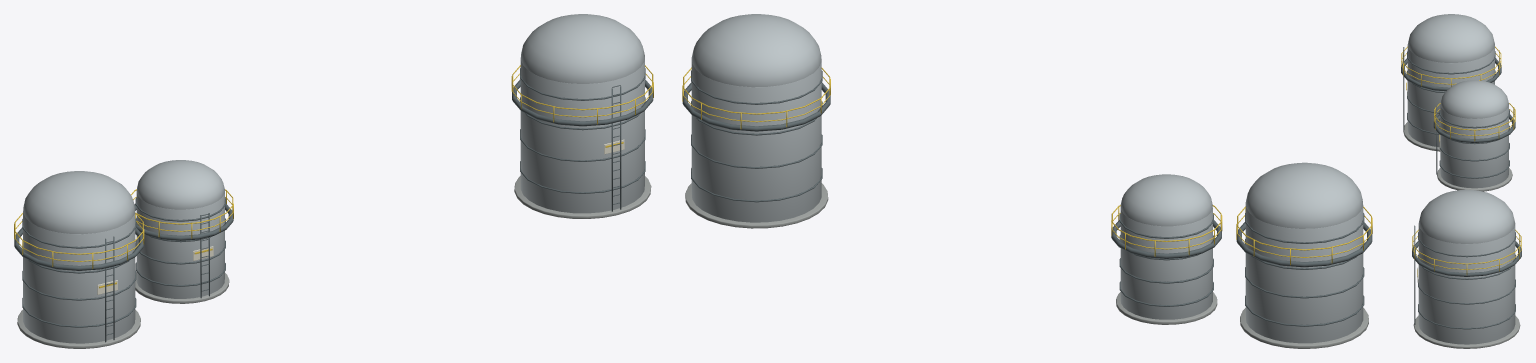
Rendered from process-tanks-mobile.glb.
The picture shows the model from 3 angles, left to right: view 1: azimuth 30°, elevation 25°; view 2: azimuth 150°, elevation 25°; view 3: azimuth 270°, elevation 25°; orthographic projection. The views are drawn at different scales.
Visible parts, largest first — view 1: T103_SHELL, T101_SHELL, T103_DOME, T102_SHELL, T101_DOME, T102_DOME, T103_FOUNDATION, T103_PLATFORM, T101_FOUNDATION, T101_PLATFORM, T102_PLATFORM, T102_FOUNDATION; view 2: T103_SHELL, T101_SHELL, T102_SHELL, T103_DOME, T101_DOME, T102_DOME, T103_FOUNDATION, T103_PLATFORM, T101_FOUNDATION, T101_PLATFORM, T102_PLATFORM, T102_FOUNDATION; view 3: T103_SHELL, T102_SHELL, T103_DOME, T101_SHELL, T101_DOME, T102_DOME, T103_FOUNDATION, T103_PLATFORM, T102_PLATFORM, T101_PLATFORM, T102_FOUNDATION, T101_FOUNDATION (+17 smaller).
Boxes of the visible parts, left/top/right/bottom form: T103_SHELL: left=520, top=57, right=644, bottom=213; T101_SHELL: left=23, top=210, right=135, bottom=343; T103_DOME: left=520, top=14, right=644, bottom=83; T102_SHELL: left=136, top=190, right=224, bottom=298; T101_DOME: left=23, top=171, right=135, bottom=234; T102_DOME: left=136, top=160, right=224, bottom=209; T103_FOUNDATION: left=514, top=176, right=651, bottom=218; T103_PLATFORM: left=512, top=79, right=653, bottom=126; T101_FOUNDATION: left=17, top=310, right=140, bottom=348; T101_PLATFORM: left=14, top=227, right=143, bottom=270; T102_PLATFORM: left=134, top=203, right=233, bottom=240; T102_FOUNDATION: left=135, top=272, right=229, bottom=303; T103_SHELL: left=691, top=58, right=821, bottom=222; T101_SHELL: left=1245, top=202, right=1363, bottom=343; T102_SHELL: left=1120, top=208, right=1212, bottom=319; T103_DOME: left=691, top=14, right=821, bottom=87; T101_DOME: left=1246, top=162, right=1363, bottom=228; T102_DOME: left=1120, top=174, right=1212, bottom=226; T103_FOUNDATION: left=685, top=183, right=828, bottom=228; T103_PLATFORM: left=682, top=82, right=830, bottom=131; T101_FOUNDATION: left=1240, top=308, right=1368, bottom=348; T101_PLATFORM: left=1236, top=222, right=1372, bottom=267; T102_PLATFORM: left=1111, top=220, right=1221, bottom=258; T102_FOUNDATION: left=1116, top=292, right=1217, bottom=324; T103_SHELL: left=1418, top=224, right=1515, bottom=344; T102_SHELL: left=1440, top=104, right=1508, bottom=188; T103_DOME: left=1418, top=189, right=1515, bottom=243; T101_SHELL: left=1407, top=45, right=1494, bottom=147; T101_DOME: left=1407, top=14, right=1494, bottom=62; T102_DOME: left=1440, top=80, right=1508, bottom=118; T103_FOUNDATION: left=1413, top=315, right=1520, bottom=348; T103_PLATFORM: left=1412, top=240, right=1521, bottom=276; T102_PLATFORM: left=1433, top=114, right=1515, bottom=142; T101_PLATFORM: left=1401, top=58, right=1501, bottom=91; T102_FOUNDATION: left=1437, top=168, right=1512, bottom=191; T101_FOUNDATION: left=1403, top=122, right=1440, bottom=151.
Size of what is drawn, in the model's own units: 36.34 by 9.22 by 7.74.
